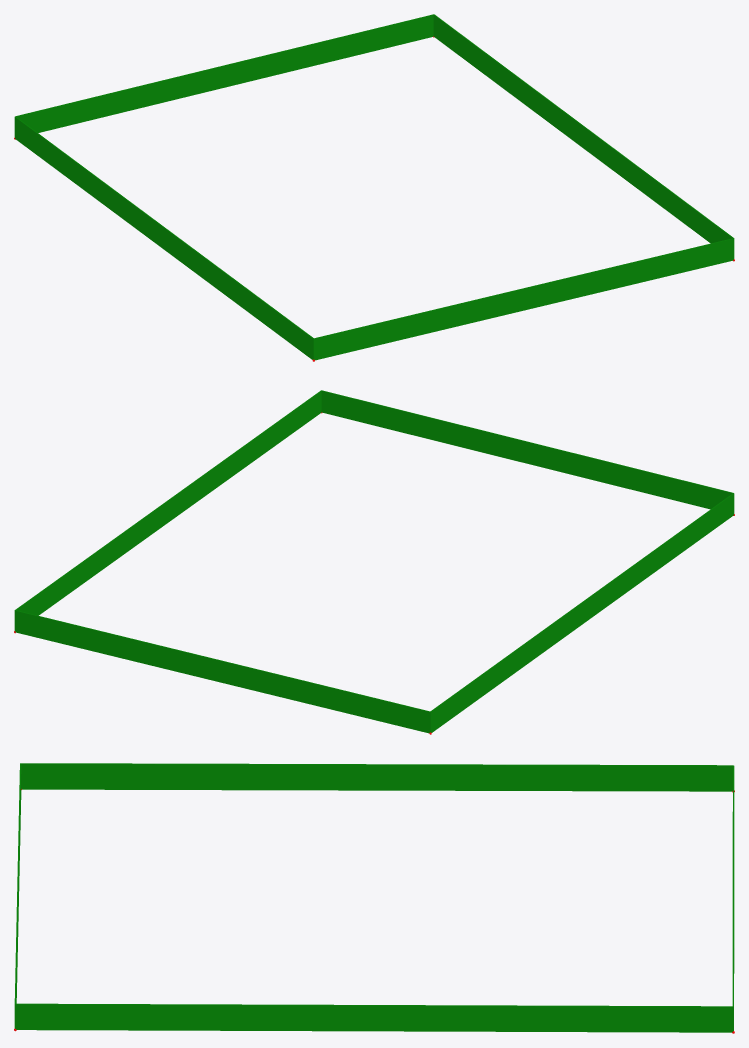
3 views of the same model, one above another, from view 1: azimuth 30°, elevation 25°; view 2: azimuth 150°, elevation 25°; view 3: azimuth 270°, elevation 25° (orthographic). The views are drawn at different scales.
Visible parts, largest first — view 1: Wall_1, Wall_3, Wall, Wall_2; view 2: Wall_3, Wall_1, Wall, Wall_2; view 3: Wall_2, Wall, Wall_1, Wall_3.
Boxes of the visible parts, x1,y1,x2,y2 form: Wall_1: (313, 238, 733, 360); Wall_3: (15, 14, 433, 132); Wall: (14, 116, 313, 359); Wall_2: (433, 14, 734, 258); Wall_3: (15, 610, 430, 733); Wall_1: (321, 390, 733, 509); Wall: (430, 493, 734, 732); Wall_2: (14, 390, 321, 630); Wall_2: (15, 1003, 733, 1032); Wall: (21, 763, 733, 791); Wall_1: (14, 763, 21, 1028); Wall_3: (732, 765, 734, 1030).
Size of the model in its own units: 40.6 by 2.1 by 50.63.
